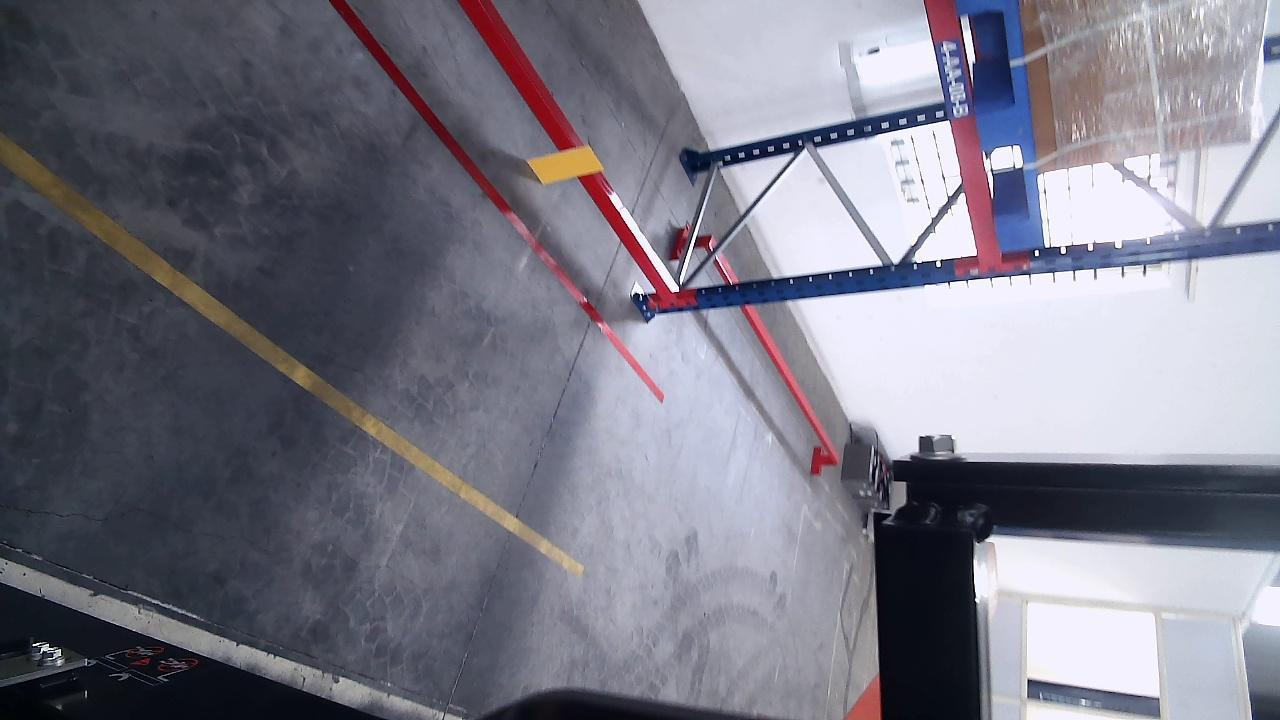h_rack: (457, 0, 672, 294), (919, 0, 1004, 263)
orange_strip: (529, 146, 606, 185)
red_line: (329, 0, 665, 404)
yellow_line: (0, 133, 585, 580)
